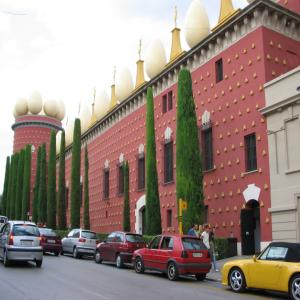Vehicle-registration-plate: (22, 242, 34, 248), (193, 254, 203, 259), (49, 240, 56, 244), (88, 250, 95, 254)
